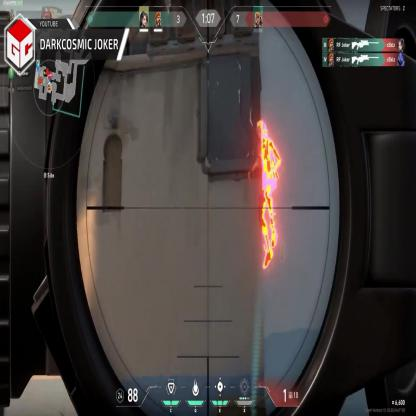enemy: (250, 121, 282, 269)
enemy_head: (254, 121, 268, 142)
